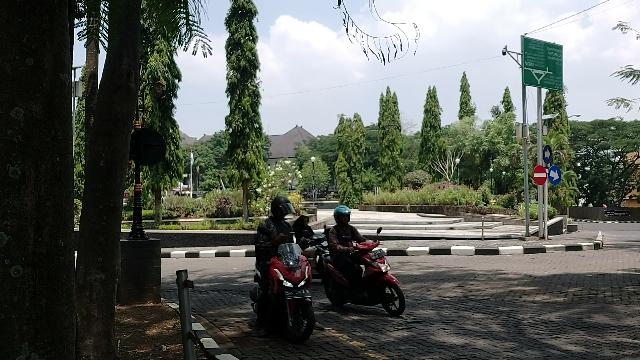helm: (272, 196, 297, 220), (334, 206, 352, 226)
motor: (249, 228, 319, 345), (322, 228, 408, 319)
non-helm: (298, 216, 310, 228)
